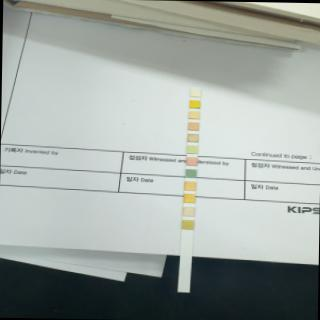mark: (186, 156, 197, 166), (186, 168, 197, 178), (182, 219, 193, 229), (184, 181, 196, 190), (182, 207, 194, 216), (186, 144, 197, 153), (188, 110, 200, 118), (189, 100, 200, 108), (188, 122, 199, 130), (187, 134, 198, 142), (183, 194, 194, 202), (190, 89, 200, 97)
